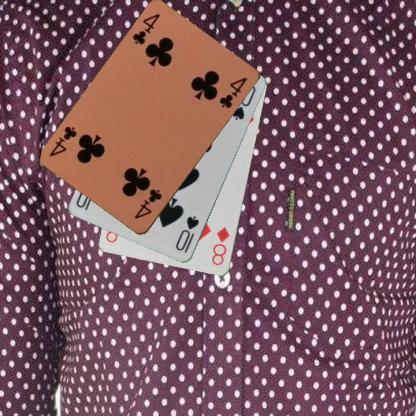10s: (172, 213, 202, 255)
4c: (131, 186, 164, 220), (130, 11, 162, 46)
8d: (209, 224, 231, 267)
